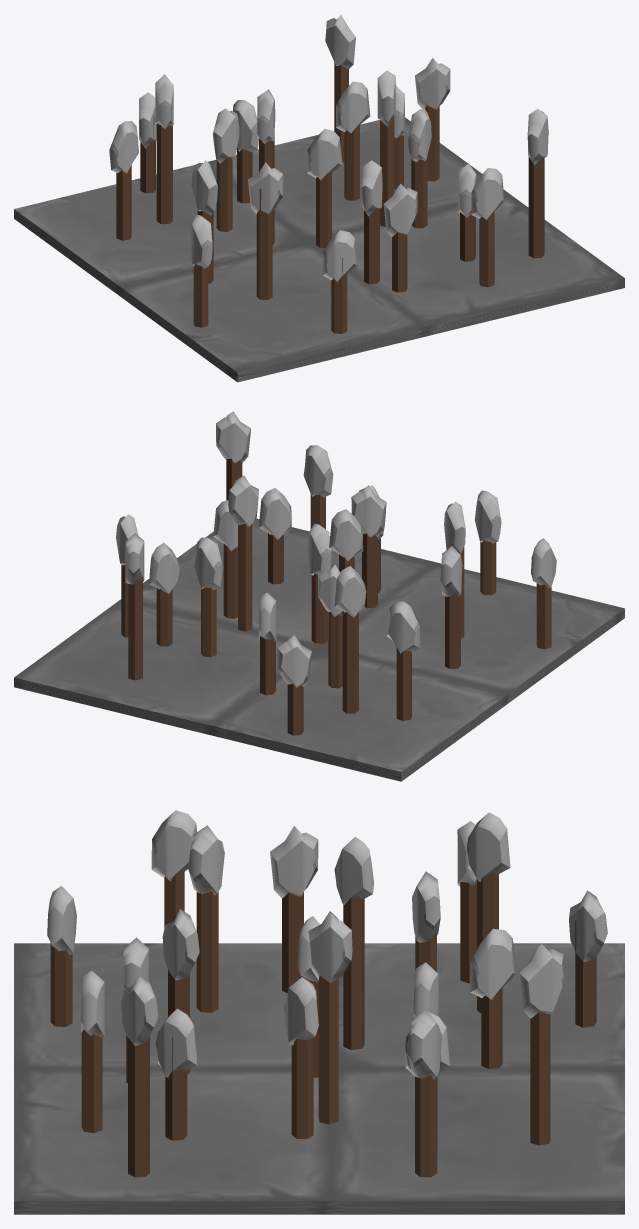
The model's file is TrapUp_F.fbx.
3 views of the same model, one above another, from view 1: azimuth 30°, elevation 25°; view 2: azimuth 150°, elevation 25°; view 3: azimuth 270°, elevation 25° (orthographic). The views are drawn at different scales.
Visible parts, largest first — view 1: polySurface8; view 2: polySurface8; view 3: polySurface8.
Boxes of the visible parts, x1=… form: polySurface8: x1=14, y1=14, x2=624, y2=382; polySurface8: x1=14, y1=411, x2=624, y2=781; polySurface8: x1=14, y1=810, x2=624, y2=1214.
Size of the model in its own units: 1 by 0.4019 by 1.
